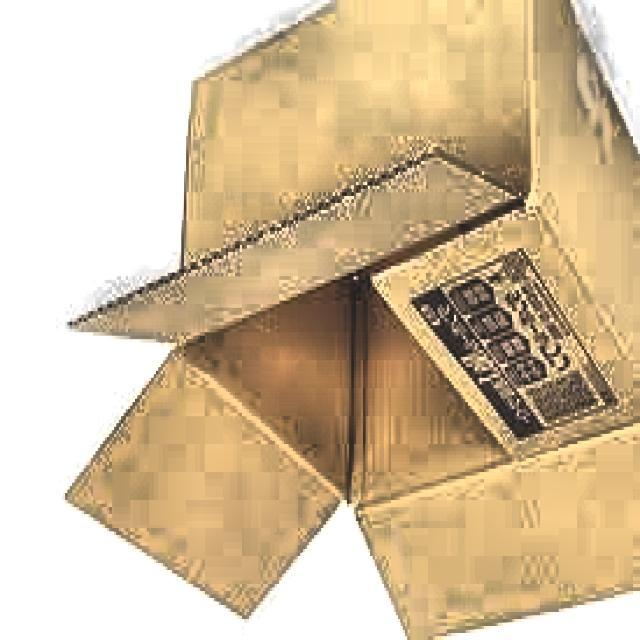cardboard: (60, 3, 638, 640)
